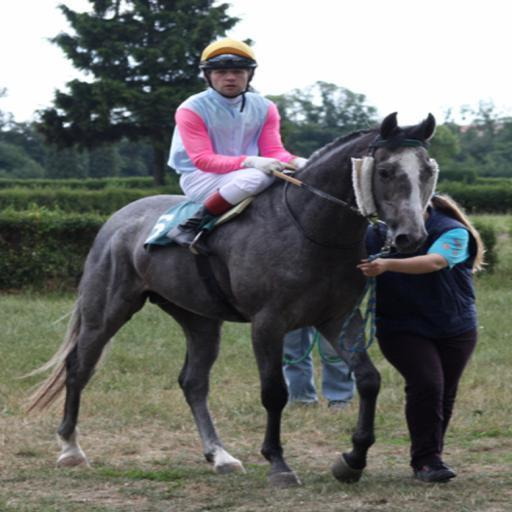horse: (9, 108, 442, 484)
